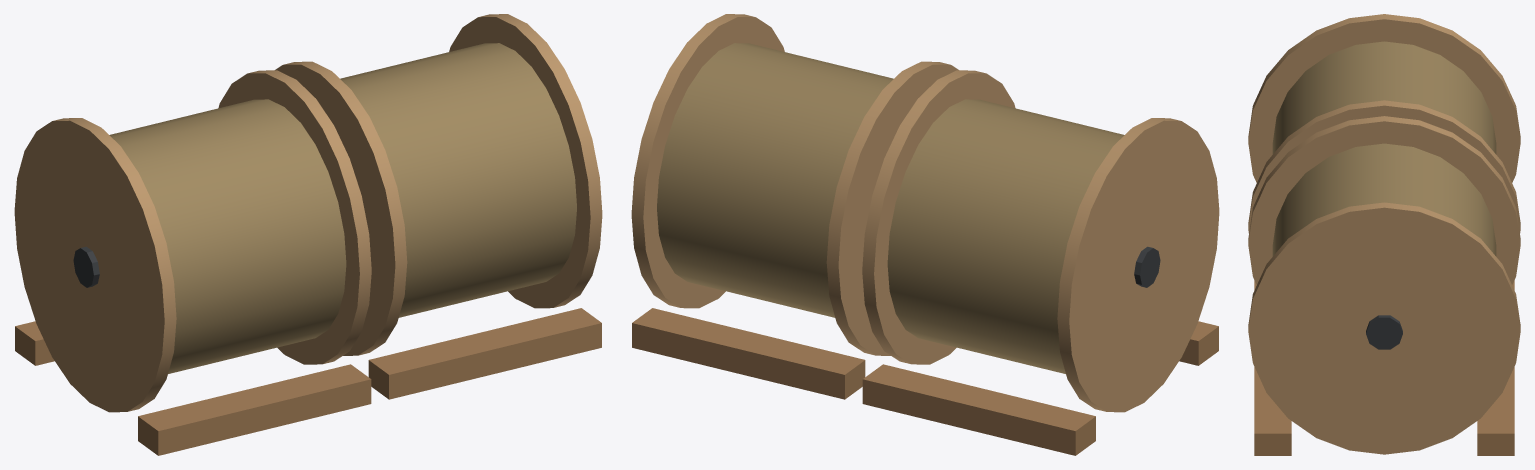
The model's file is prop_rope_reels.glb.
3 renders of one model, left to right at view 1: azimuth 30°, elevation 25°; view 2: azimuth 150°, elevation 25°; view 3: azimuth 270°, elevation 25°, orthographic. The views are drawn at different scales.
Visible parts, largest first — view 1: Reels; view 2: Reels; view 3: Reels.
Boxes of the visible parts, x1=… form: Reels: x1=14, y1=14, x2=602, y2=455; Reels: x1=631, y1=14, x2=1219, y2=455; Reels: x1=1248, y1=14, x2=1520, y2=455.
Size of what is drawn, in the model's own units: 1.52 by 0.88 by 0.88.
